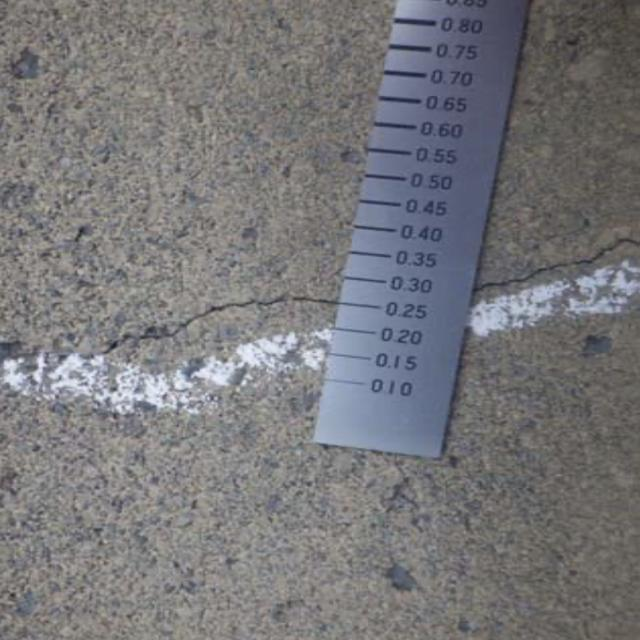crack: (4, 280, 339, 380), (481, 236, 636, 317)
